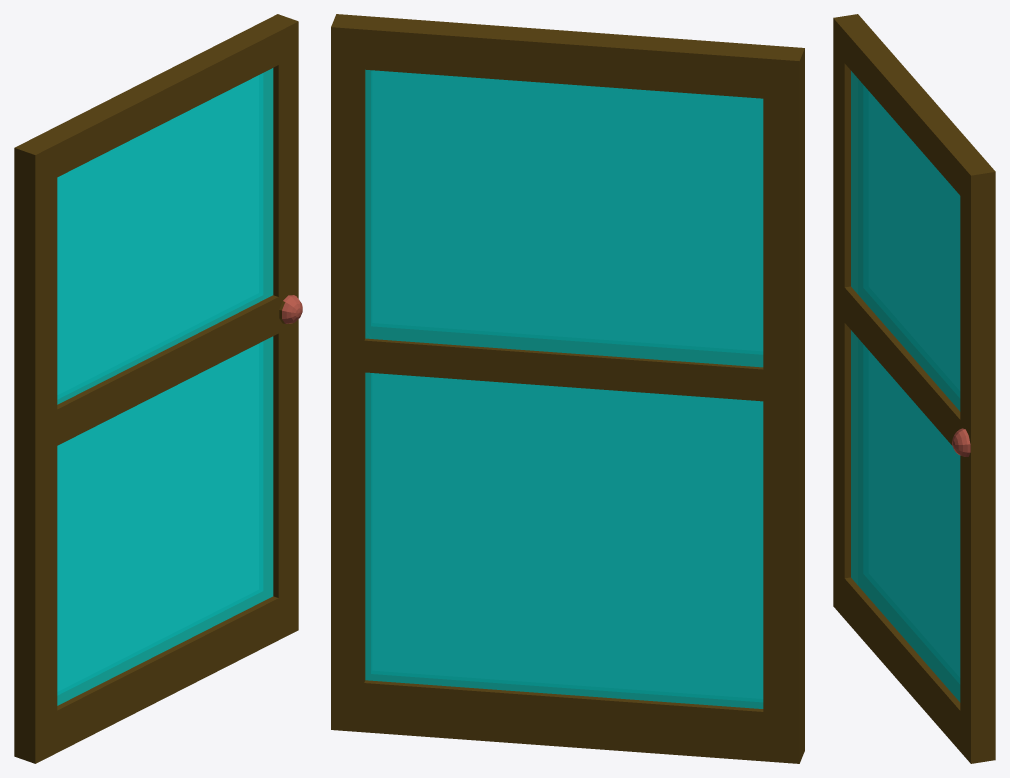
The model's file is musicdoorcolor.fbx.
3 renders of one model, left to right at view 1: azimuth 30°, elevation 25°; view 2: azimuth 150°, elevation 25°; view 3: azimuth 270°, elevation 25°, orthographic. The views are drawn at different scales.
Parts seen in each view (by area): view 1: pSphere2; view 2: pSphere2; view 3: pSphere2.
Boxes of the visible parts, <box> form: pSphere2: <box>14,14,302,763</box>; pSphere2: <box>331,14,804,763</box>; pSphere2: <box>833,14,995,763</box>.
Bounding box in the file's own units: 4.11 × 6.97 × 1.75.
